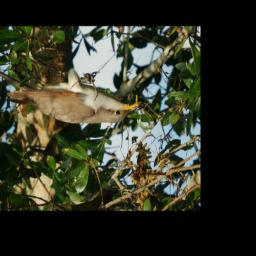Cuckoo: (4, 54, 142, 126)
